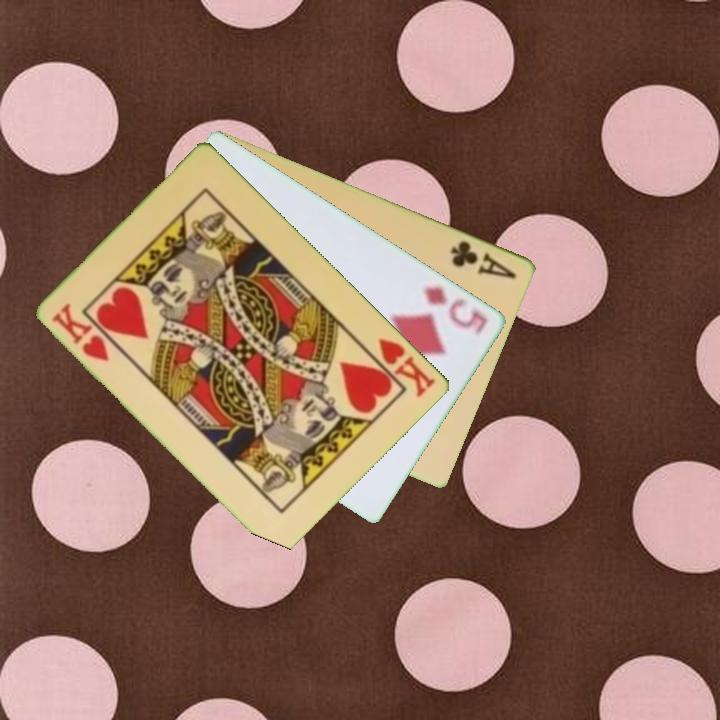5d: (420, 282, 491, 339)
Ac: (448, 237, 520, 282)
Kh: (361, 334, 439, 400), (49, 299, 113, 365)
